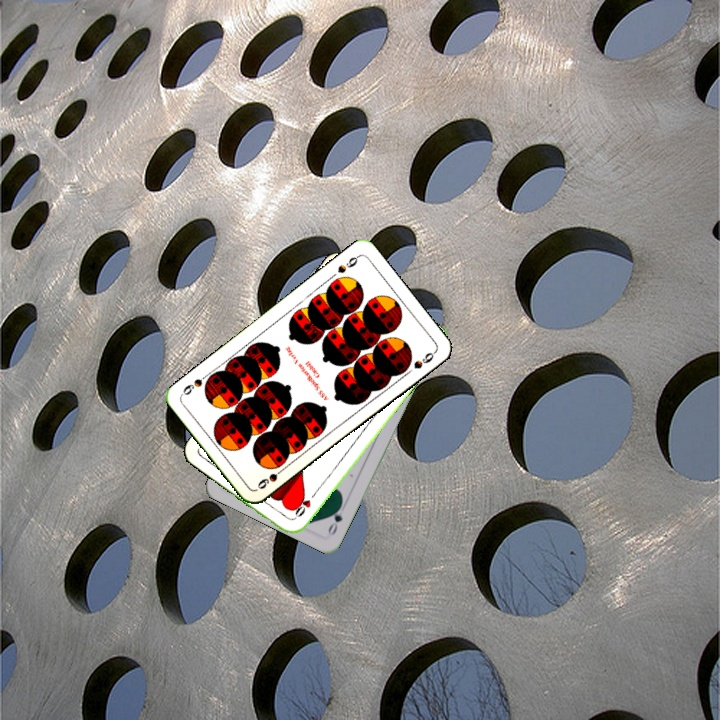GO: (324, 499, 345, 538)
HO: (290, 487, 320, 522)
S9: (253, 463, 288, 492), (333, 251, 362, 276)
